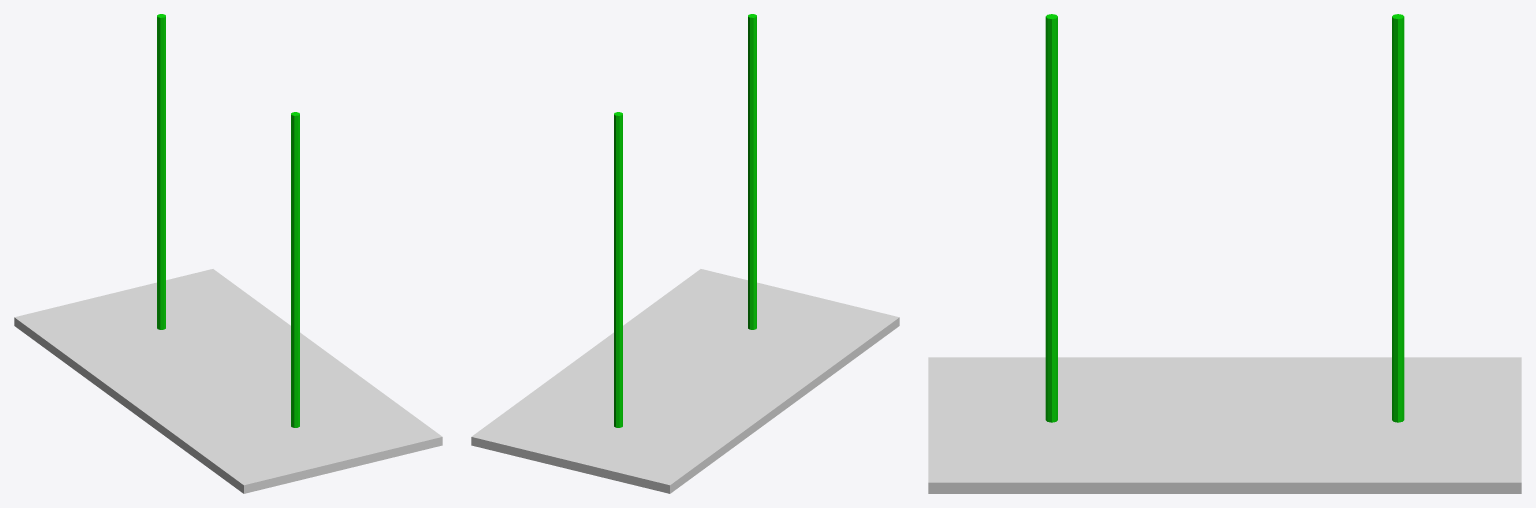
The model's file is OM_1BHK_Kitchen_Roof_Lamp.fbx.
3 renders of one model, left to right at view 1: azimuth 30°, elevation 25°; view 2: azimuth 150°, elevation 25°; view 3: azimuth 270°, elevation 25°, orthographic. The views are drawn at different scales.
Visible parts, largest first — view 1: OM_1BHK_Kitchen_Roof_Lamp_Cage, OM_1BHK_Kitchen_Roof_Lamp_Metal; view 2: OM_1BHK_Kitchen_Roof_Lamp_Cage, OM_1BHK_Kitchen_Roof_Lamp_Metal; view 3: OM_1BHK_Kitchen_Roof_Lamp_Cage, OM_1BHK_Kitchen_Roof_Lamp_Metal.
Part boxes in pixels (box(x1,y1,x2,y2)): OM_1BHK_Kitchen_Roof_Lamp_Cage: box(14, 269, 442, 493); OM_1BHK_Kitchen_Roof_Lamp_Metal: box(157, 14, 299, 427); OM_1BHK_Kitchen_Roof_Lamp_Cage: box(471, 269, 899, 493); OM_1BHK_Kitchen_Roof_Lamp_Metal: box(614, 14, 756, 427); OM_1BHK_Kitchen_Roof_Lamp_Cage: box(928, 357, 1521, 493); OM_1BHK_Kitchen_Roof_Lamp_Metal: box(1045, 14, 1404, 422).
Bounding box in the file's own units: 1 × 1.54 × 2.
